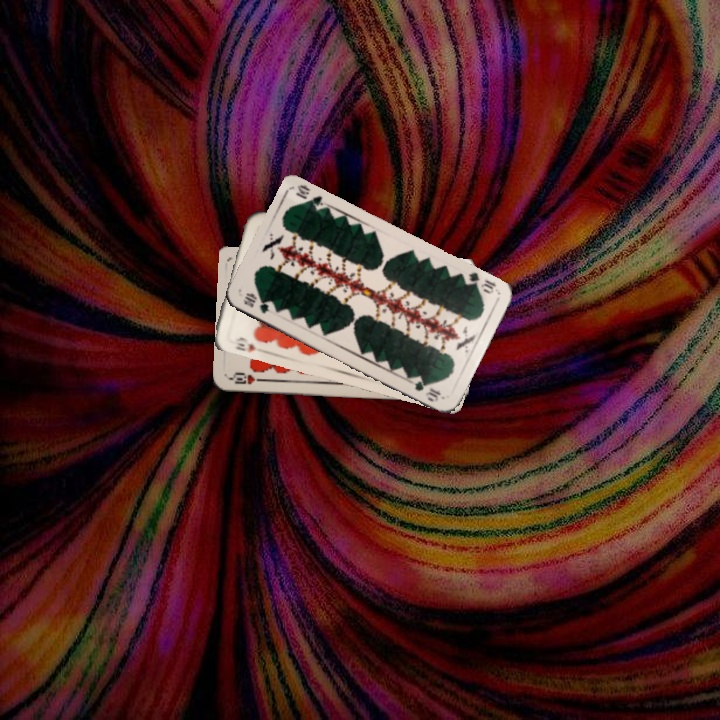G10: (460, 268, 499, 297), (239, 289, 271, 316)
H10: (231, 333, 266, 355), (226, 369, 266, 387)
